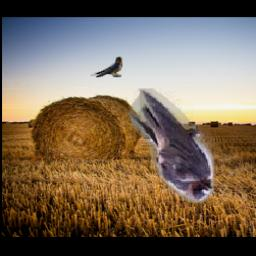Swallow: (130, 89, 216, 204), (90, 57, 122, 78)
